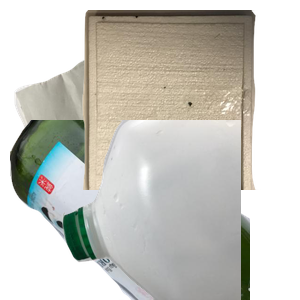glass: (10, 120, 250, 300)
paper: (12, 10, 240, 176)
plastic: (60, 120, 300, 300)
trash: (80, 10, 300, 190)
